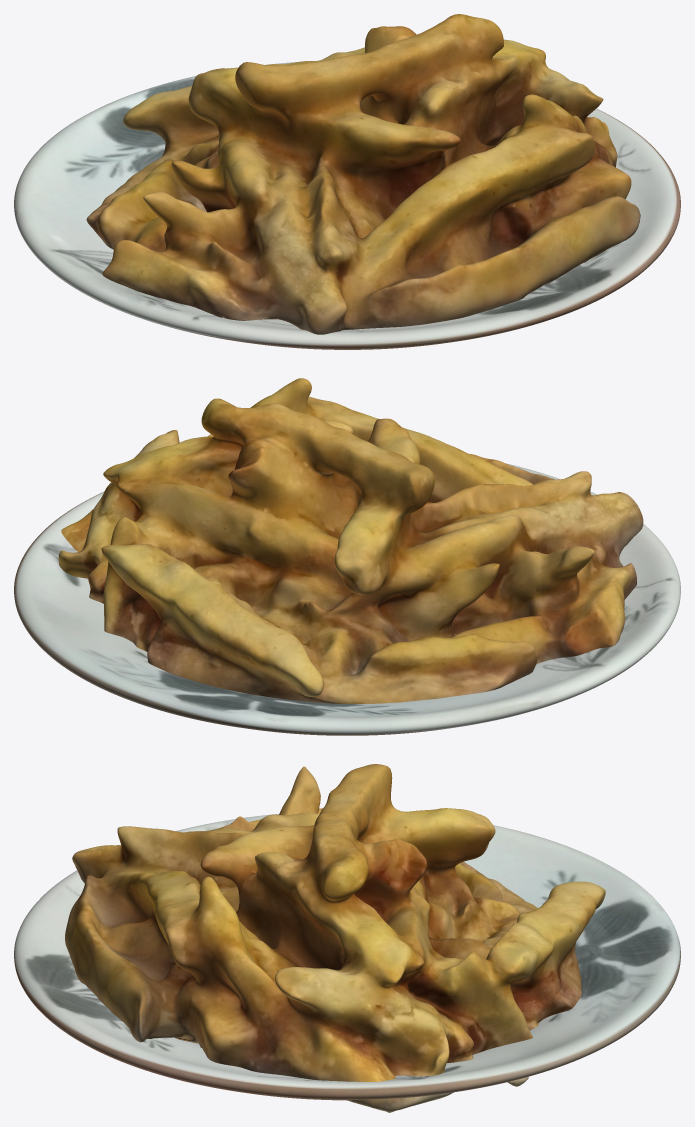
Rendered from fries.glb.
The picture shows the model from 3 angles, top to bottom: view 1: azimuth 30°, elevation 25°; view 2: azimuth 150°, elevation 25°; view 3: azimuth 270°, elevation 25°; orthographic projection.
Parts seen in each view (by area): view 1: 3DModel, geometry_0; view 2: 3DModel, geometry_0; view 3: 3DModel, geometry_0.
Boxes of the visible parts, box(x1,y1,x2,y2) form: 3DModel: box(86, 14, 640, 334); geometry_0: box(14, 62, 680, 349); 3DModel: box(58, 378, 643, 703); geometry_0: box(14, 463, 680, 735); 3DModel: box(65, 764, 605, 1112); geometry_0: box(14, 814, 680, 1100).
Size of the model in its own units: 0.7038 by 0.2655 by 0.7038.
Materials: 2 (2 with a texture image).
